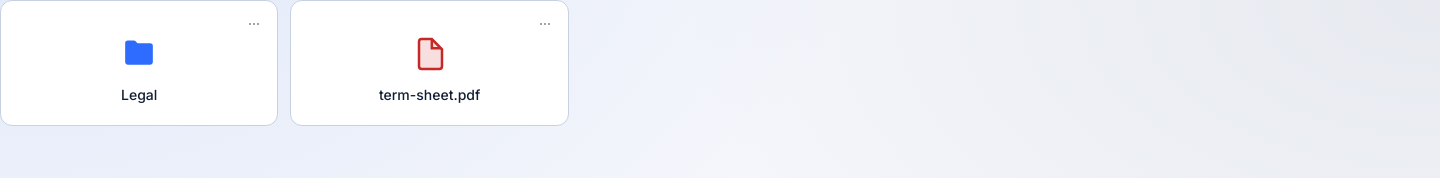
Test case: DriveItemList grid cards › hides rename, move and delete when the user can only view
Click the button named "File actions".
click(545, 24)  # box [527,6,563,42]
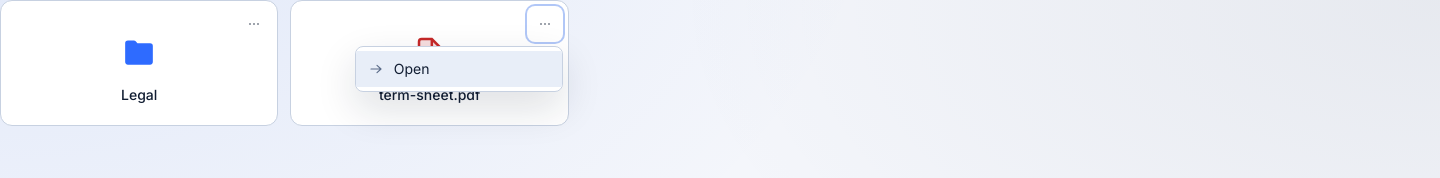
expect the menu item "Open" is shown: met, box [356,51,562,87]
